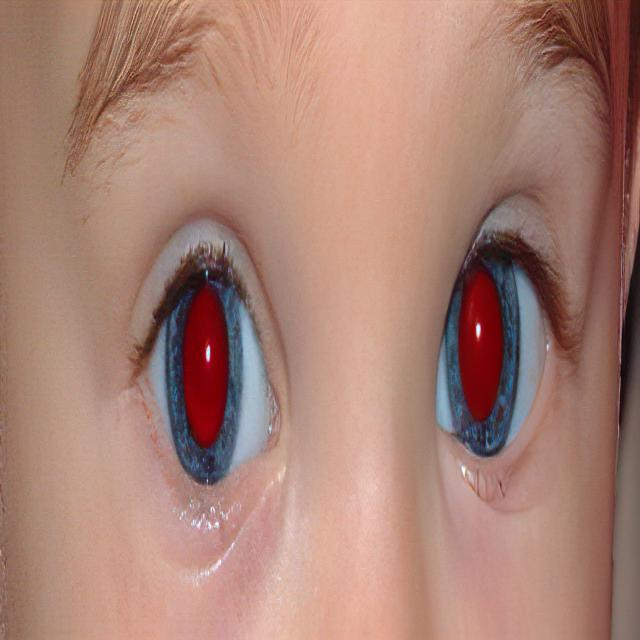reflexo-normal: (127, 228, 282, 513), (437, 216, 551, 484)
